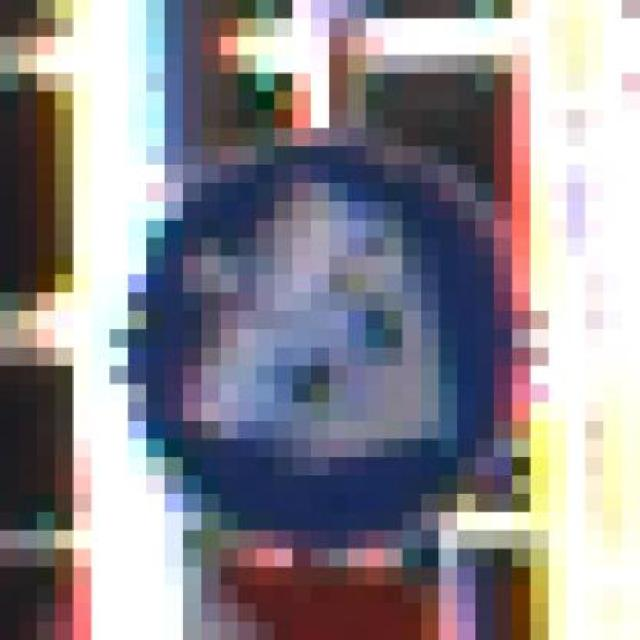Keep-Right: (73, 146, 567, 549)
